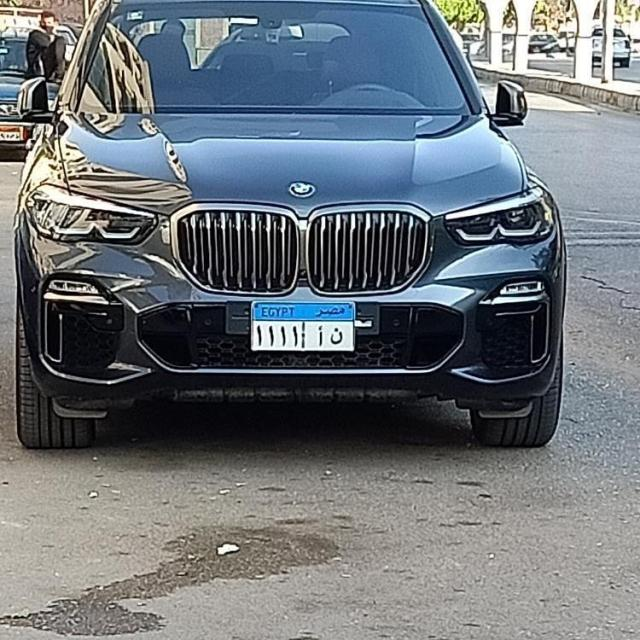License Plate: (250, 301, 357, 352)
